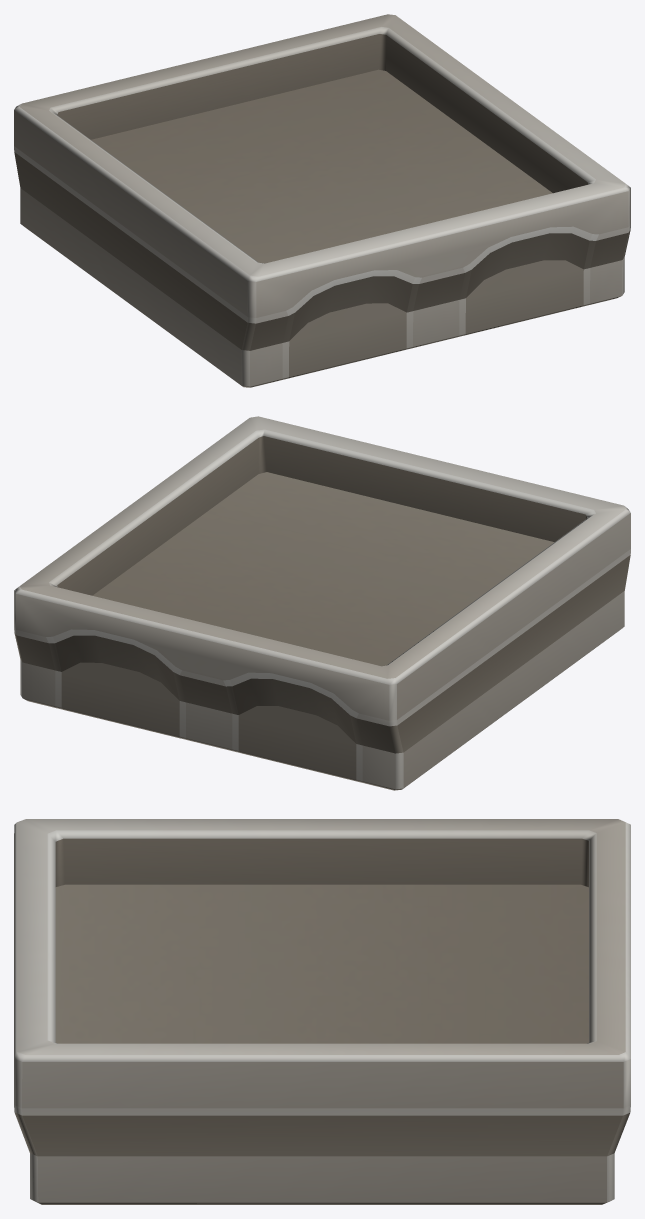
The model's file is appartment_type1_roof_type1_x4.fbx.
The picture shows the model from 3 angles, top to bottom: view 1: azimuth 30°, elevation 25°; view 2: azimuth 150°, elevation 25°; view 3: azimuth 270°, elevation 25°; orthographic projection. The views are drawn at different scales.
Parts seen in each view (by area): view 1: appartment_type1_roof_type1_x4; view 2: appartment_type1_roof_type1_x4; view 3: appartment_type1_roof_type1_x4.
Boxes of the visible parts, left/top/right/bottom form: appartment_type1_roof_type1_x4: left=14, top=14, right=630, bottom=387; appartment_type1_roof_type1_x4: left=14, top=416, right=630, bottom=790; appartment_type1_roof_type1_x4: left=14, top=819, right=630, bottom=1204.
Bounding box in the file's own units: 800 × 232 × 867.
